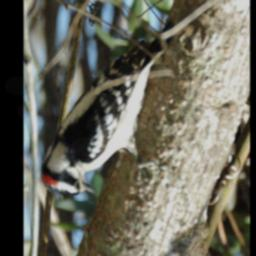Woodpecker: (41, 36, 165, 197)
